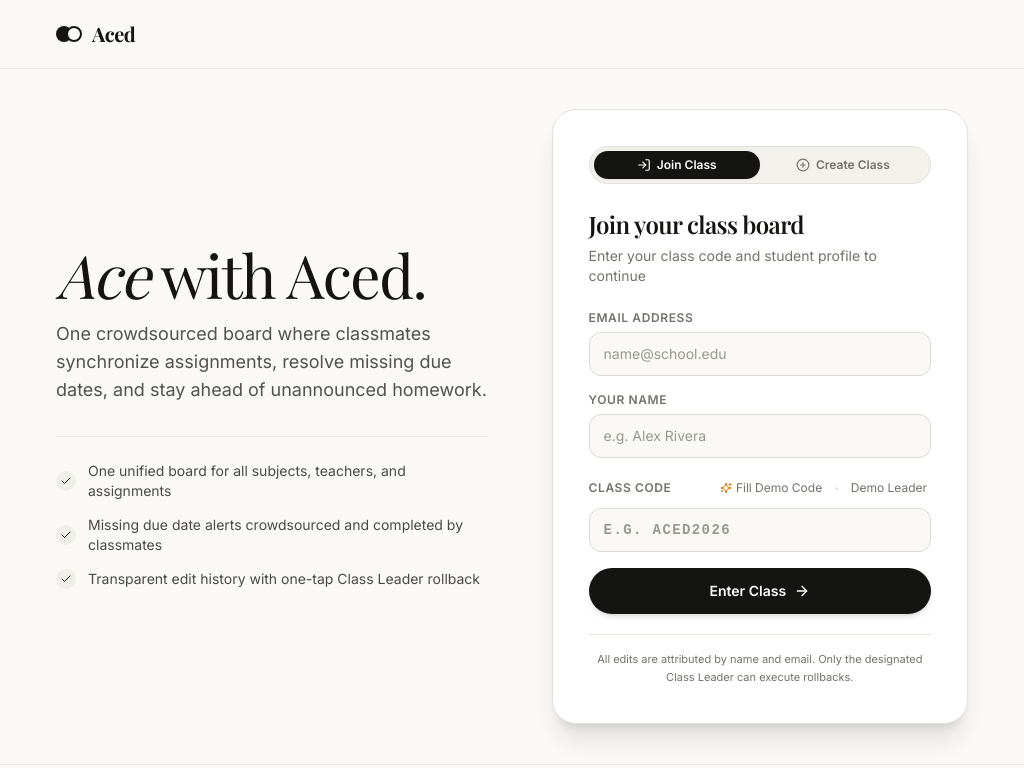
Scenario: JoinClassForm Component › validates required email field
Click the button "Enter Class" at (760, 591), box [589,568,931,614]
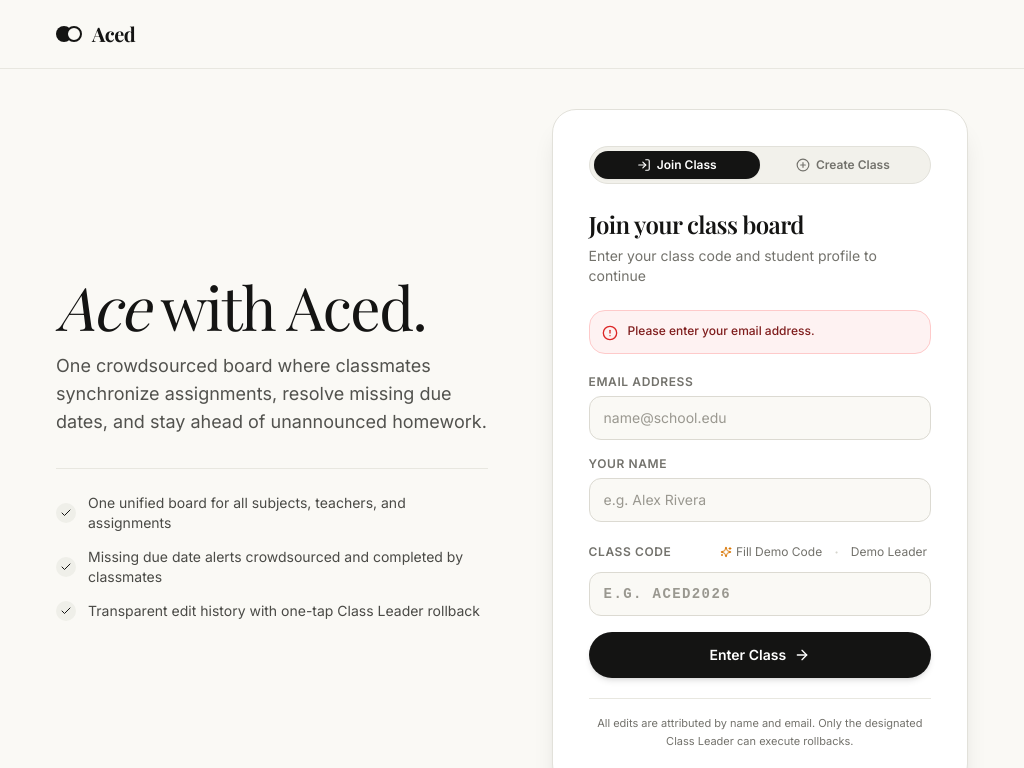
Check: the text "Please enter your email address." is shown, box [628,323,815,338]
